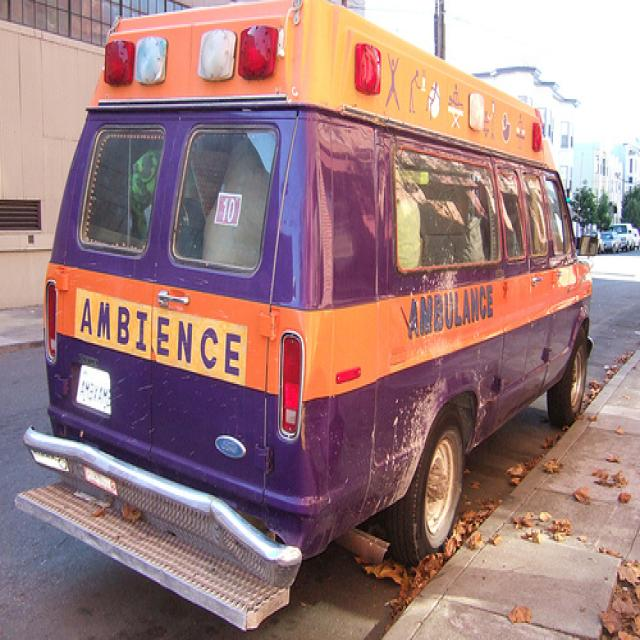emergency-vehicle: (36, 10, 599, 621)
